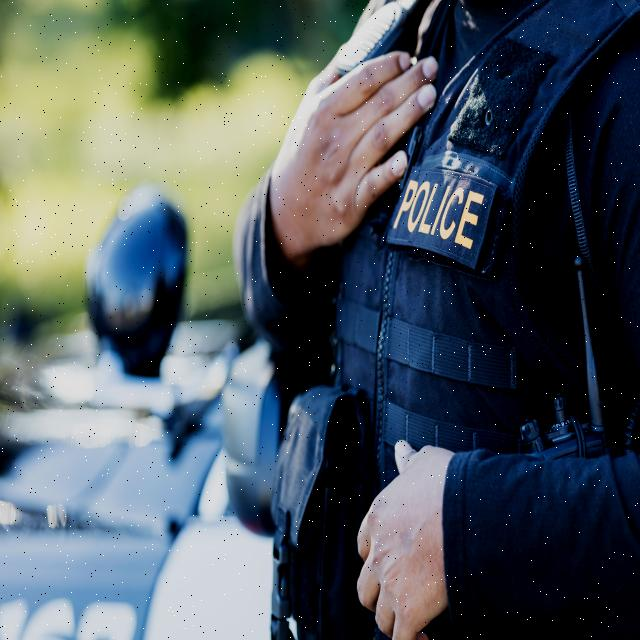police: (228, 0, 640, 640)
